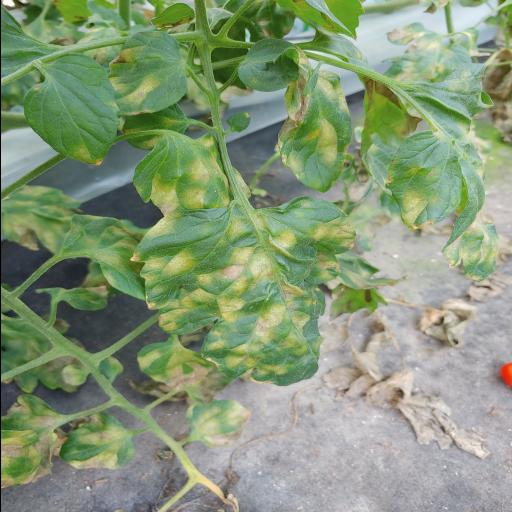Leaf Mold: (125, 196, 357, 387), (383, 63, 500, 284), (20, 54, 120, 166), (274, 72, 350, 193), (111, 30, 187, 122), (58, 412, 134, 470), (135, 341, 212, 389), (183, 398, 252, 448)
